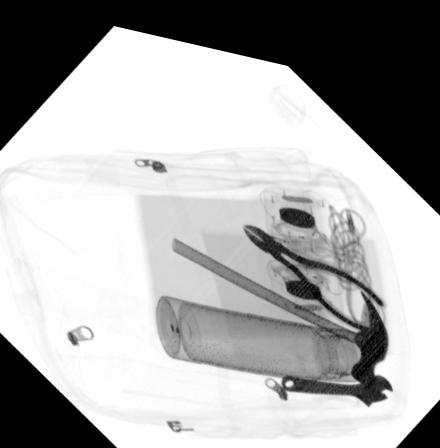Hammer: (170, 229, 387, 369)
Pliers: (244, 214, 382, 316)
Wrench: (282, 355, 392, 390)
